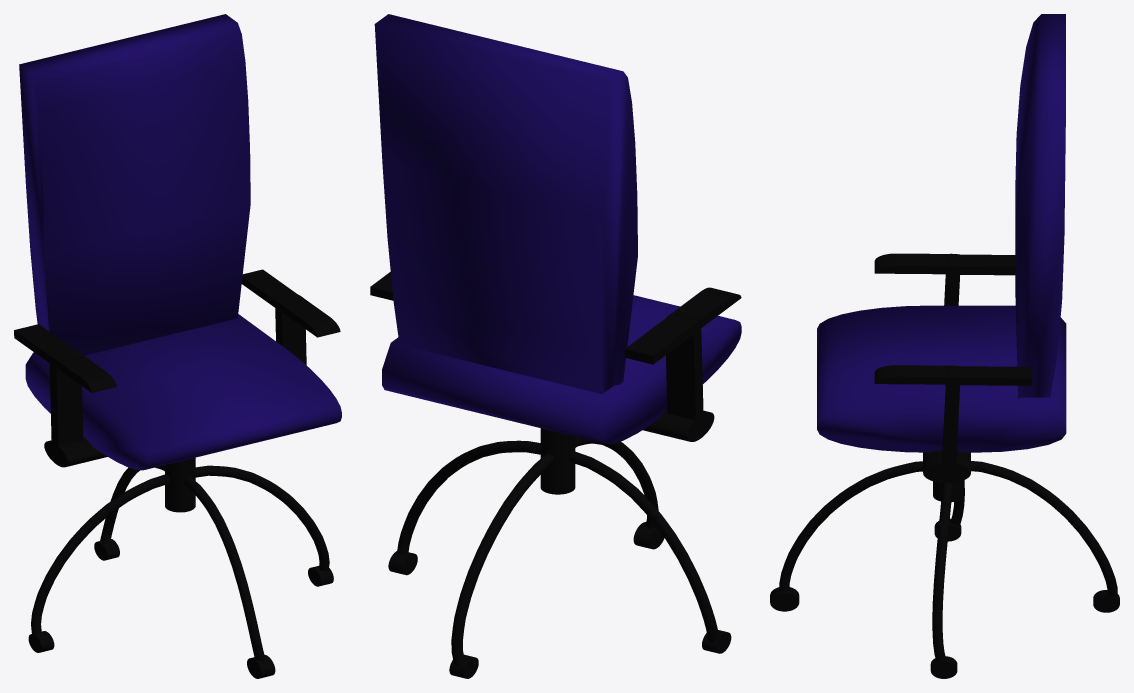
Rendered from office_chair_pp.fbx.
3 views of the same model, side by side, from view 1: azimuth 30°, elevation 25°; view 2: azimuth 150°, elevation 25°; view 3: azimuth 270°, elevation 25° (orthographic). The views are drawn at different scales.
Parts seen in each view (by area): view 1: BezierCurve; view 2: BezierCurve; view 3: BezierCurve.
Boxes of the visible parts, bbox=[...] form: BezierCurve: bbox=[14, 14, 341, 678]; BezierCurve: bbox=[370, 14, 741, 678]; BezierCurve: bbox=[770, 14, 1119, 678].
Bounding box in the file's own units: 265 × 467 × 272.
